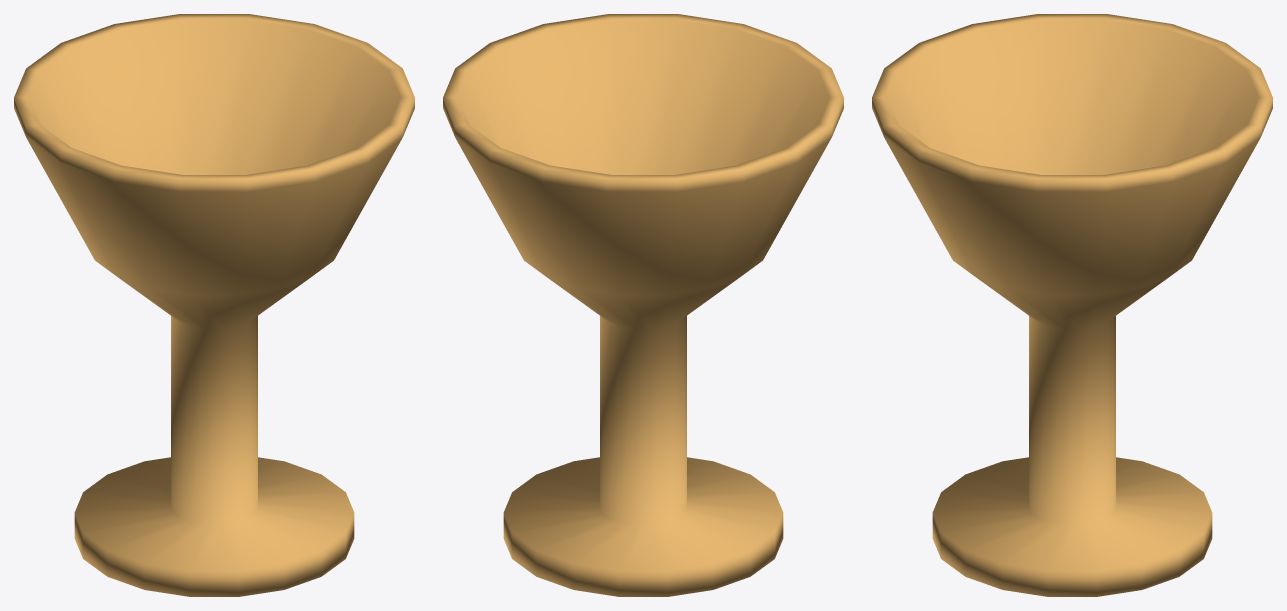
File: Grail.fbx
3 renders of one model, left to right at view 1: azimuth 30°, elevation 25°; view 2: azimuth 150°, elevation 25°; view 3: azimuth 270°, elevation 25°, orthographic.
Visible parts, largest first — view 1: Cup; view 2: Cup; view 3: Cup.
Part boxes in pixels (x1,y1,x2,y2): Cup: (14, 14, 414, 596); Cup: (443, 14, 843, 596); Cup: (872, 14, 1272, 596).
Size of the model in its own units: 217 by 267 by 220.
